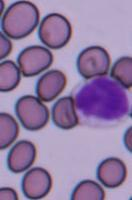L: (72, 74, 132, 128)
